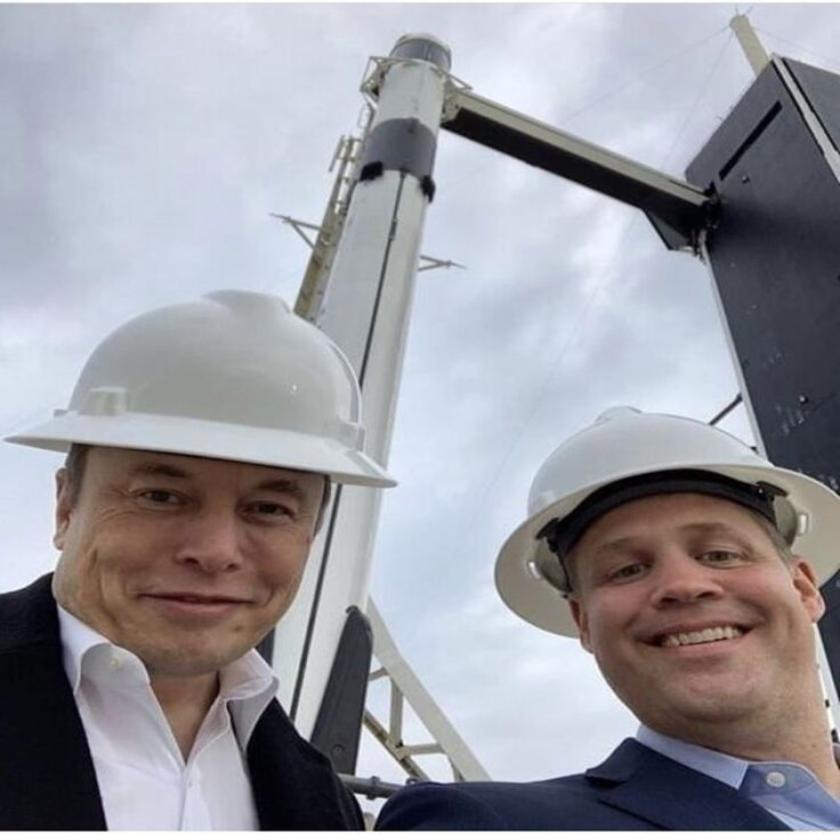Con_casco: (20, 289, 400, 690), (495, 401, 840, 766)
